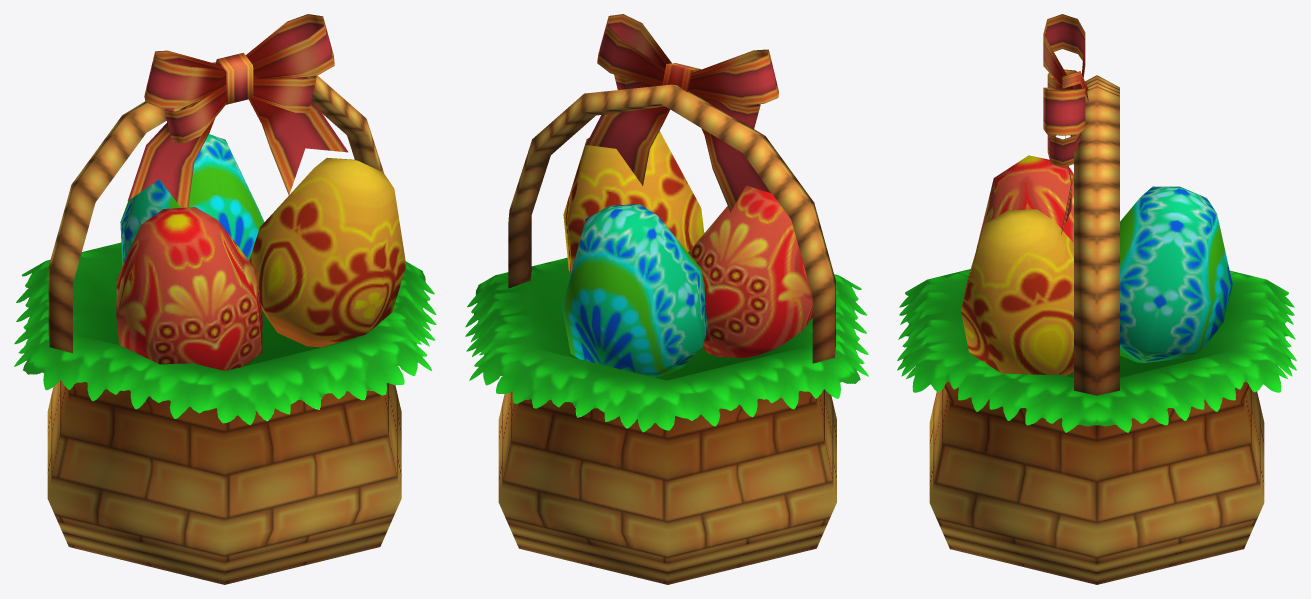
The model's file is Egg_Basket_01.FBX.
3 renders of one model, left to right at view 1: azimuth 30°, elevation 25°; view 2: azimuth 150°, elevation 25°; view 3: azimuth 270°, elevation 25°, orthographic. The views are drawn at different scales.
Visible parts, largest first — view 1: Line1490, Line1489; view 2: Line1490, Line1489; view 3: Line1490, Line1489.
Boxes of the visible parts, x1,y1,x2,y2 form: Line1490: (14,14,436,584); Line1489: (116,134,406,370); Line1490: (465,14,868,584); Line1489: (562,131,812,377); Line1490: (897,14,1296,584); Line1489: (961,155,1232,375).
Size of the model in its own units: 85.36 by 93.86 by 73.92.
